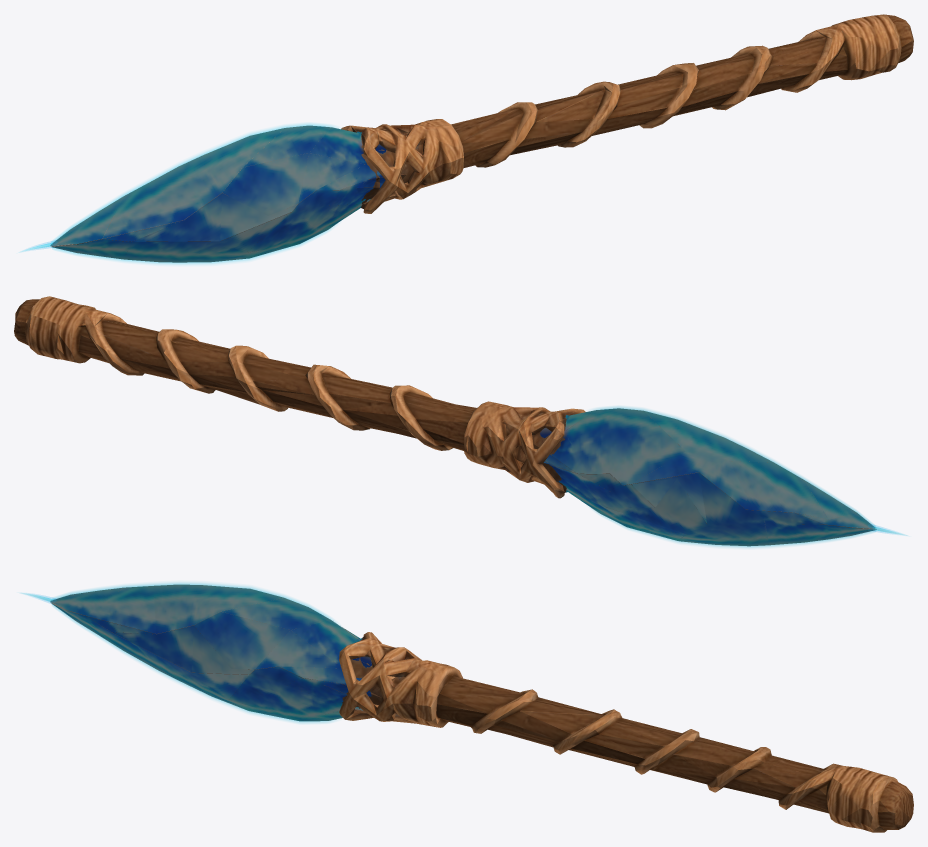
Rendered from han-approved-stoneblade.glb.
The picture shows the model from 3 angles, top to bottom: view 1: azimuth 30°, elevation 25°; view 2: azimuth 150°, elevation 25°; view 3: azimuth 330°, elevation 25°; orthographic projection.
Visible parts, largest first — view 1: Base_StoneBlade, FX_StoneLight, FX_EdgeHalo; view 2: Base_StoneBlade, FX_StoneLight, FX_EdgeHalo; view 3: Base_StoneBlade, FX_StoneLight, FX_EdgeHalo.
Boxes of the visible parts, x1=… form: Base_StoneBlade: x1=51, y1=14, x2=913, y2=246; FX_StoneLight: x1=50, y1=125, x2=386, y2=262; FX_EdgeHalo: x1=51, y1=123, x2=335, y2=264; Base_StoneBlade: x1=14, y1=296, x2=874, y2=529; FX_StoneLight: x1=540, y1=408, x2=876, y2=546; FX_EdgeHalo: x1=592, y1=406, x2=875, y2=547; Base_StoneBlade: x1=51, y1=602, x2=913, y2=832; FX_StoneLight: x1=50, y1=584, x2=371, y2=721; FX_EdgeHalo: x1=52, y1=582, x2=335, y2=723.
Bounding box in the file's own units: 1.98 × 0.2775 × 0.1669.
Materials: 3 (2 with a texture image).
